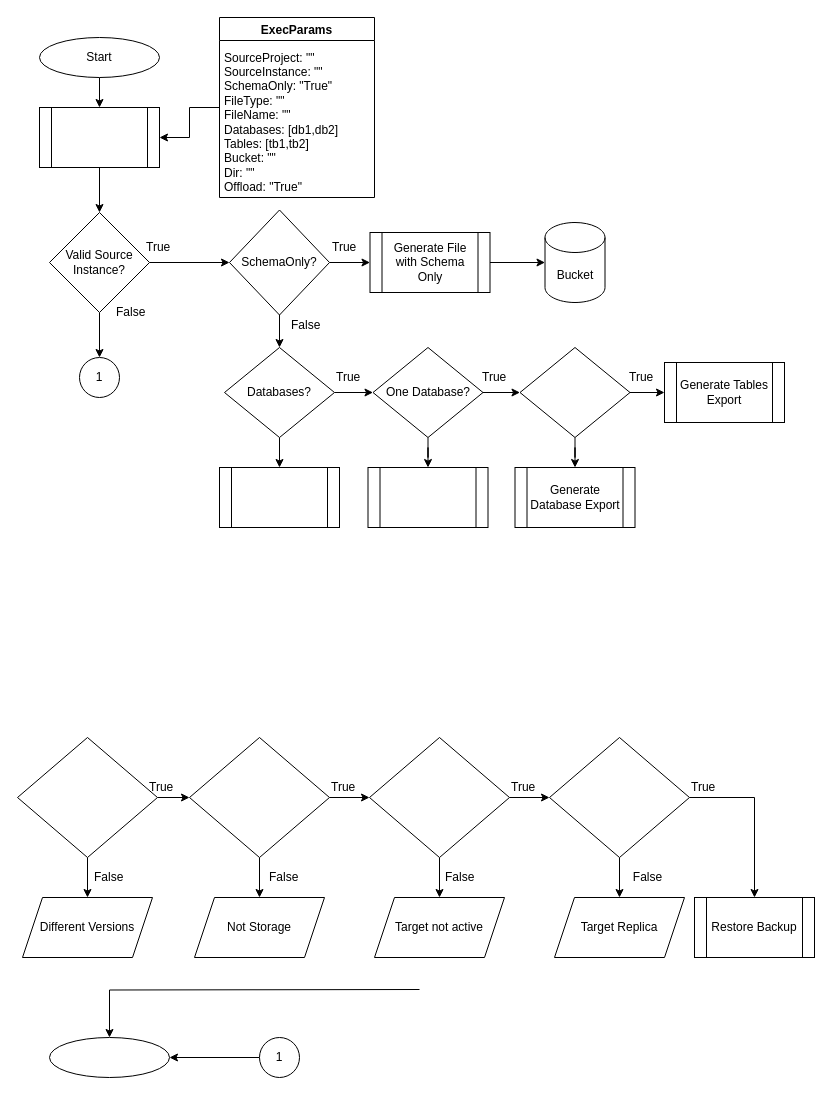
This 832x1095 diagram has some shape labels left out. Here are the shapes that lost their labels. From the top down, the centre of each, then its label:
[99,137]: Read ExecParams
[574,392]: Tables?
[279,497]: Generate Instance Export
[427,497]: Generate Databases Export
[87,797]: Instance Version Source=Target
[259,797]: Storage Capacity Target >= Source
[439,797]: Target Instance Status = RUNNABLE
[619,797]: Target Instance No Replicas
[109,1057]: End
